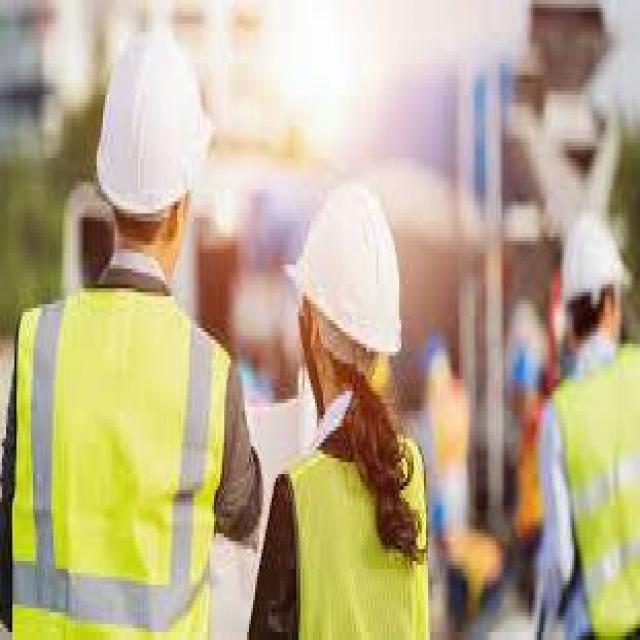Reflective-Jacket: (6, 280, 239, 640), (274, 427, 438, 636), (547, 352, 640, 632)
Safety-Helmet: (89, 32, 216, 225), (288, 170, 412, 367), (552, 202, 628, 316), (498, 296, 556, 407)
